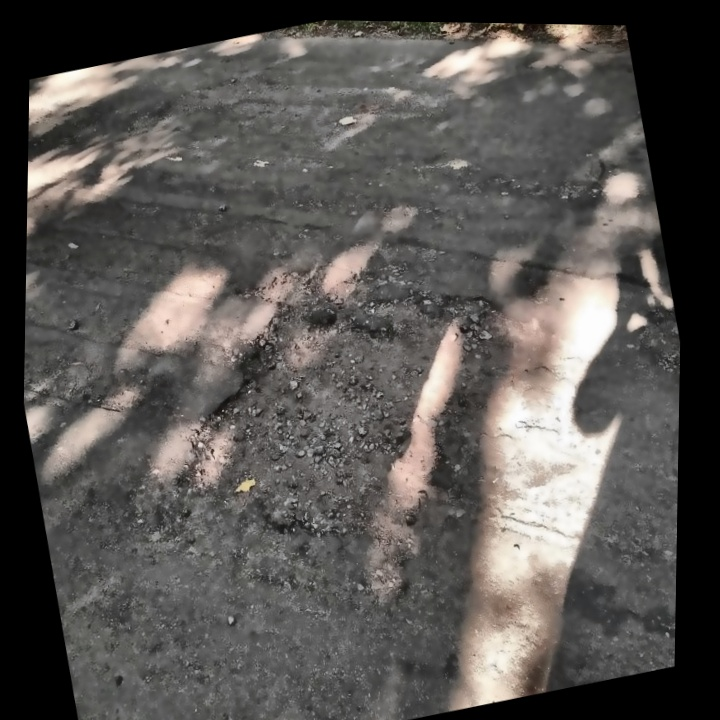pothole: (141, 249, 550, 589)
